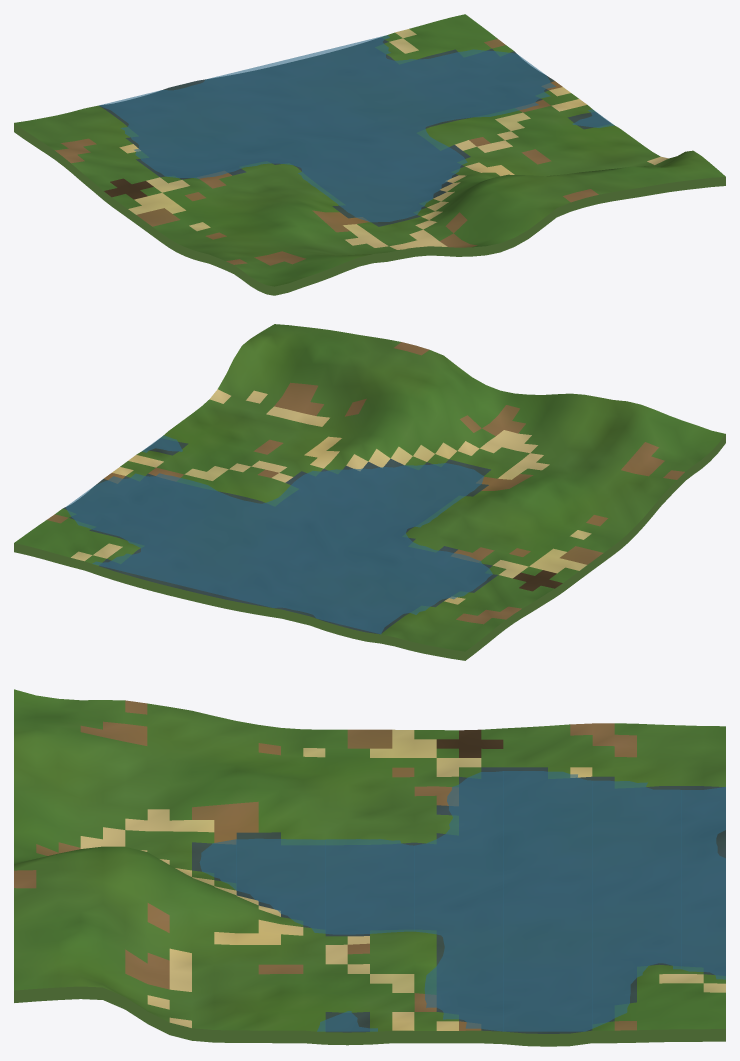
Rendered from chunk_2_7_lod1.glb.
3 renders of one model, top to bottom at view 1: azimuth 30°, elevation 25°; view 2: azimuth 150°, elevation 25°; view 3: azimuth 270°, elevation 25°, orthographic. The views are drawn at different scales.
Parts seen in each view (by area): view 1: Surface_Grass, Water, Surface_Water, Skirt, Surface_Sand, Surface_Dirt, Surface_Mud; view 2: Surface_Grass, Surface_Water, Water, Surface_Sand, Skirt, Surface_Dirt, Surface_Mud; view 3: Surface_Grass, Water, Surface_Water, Surface_Dirt, Surface_Sand, Skirt, Surface_Mud.
Part boxes in pixels (<box>): Surface_Grass: <box>14,14,725,286</box>; Water: <box>99,35,614,222</box>; Surface_Water: <box>99,37,611,226</box>; Skirt: <box>14,123,725,295</box>; Surface_Sand: <box>119,29,668,249</box>; Surface_Dirt: <box>55,39,598,265</box>; Surface_Mud: <box>104,178,153,199</box>; Surface_Grass: <box>14,324,725,651</box>; Surface_Water: <box>63,438,497,634</box>; Water: <box>66,435,492,634</box>; Surface_Sand: <box>71,389,591,604</box>; Skirt: <box>14,434,725,660</box>; Surface_Dirt: <box>47,342,684,624</box>; Surface_Mud: <box>513,570,562,591</box>; Surface_Grass: <box>14,689,725,1031</box>; Water: <box>199,771,725,1031</box>; Surface_Water: <box>192,767,725,1033</box>; Surface_Dirt: <box>14,700,636,1030</box>; Surface_Sand: <box>80,729,725,1030</box>; Skirt: <box>14,986,725,1046</box>; Surface_Mud: <box>436,729,503,757</box>.
Bounding box in the file's own units: 256 × 30.33 × 256.
